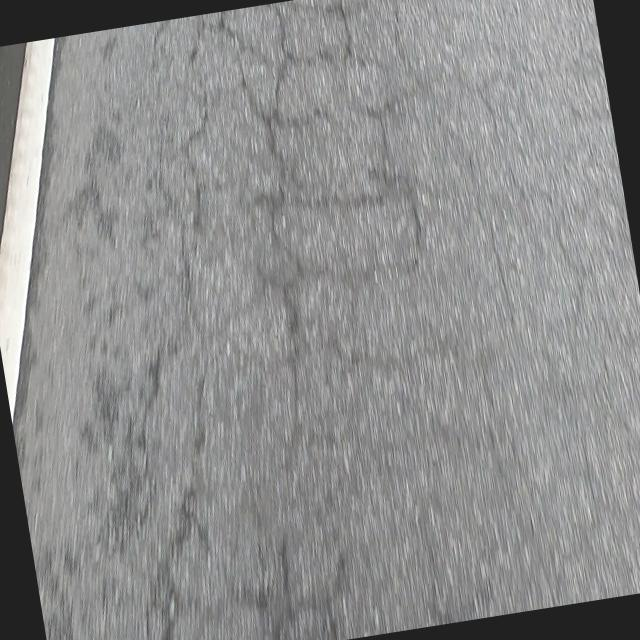Retak-Buaya: (123, 0, 438, 640)
